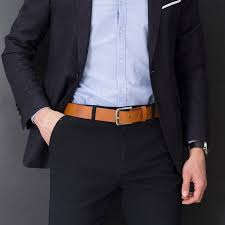F_belt: (54, 97, 161, 128)
F_dress pants: (48, 101, 184, 221)
